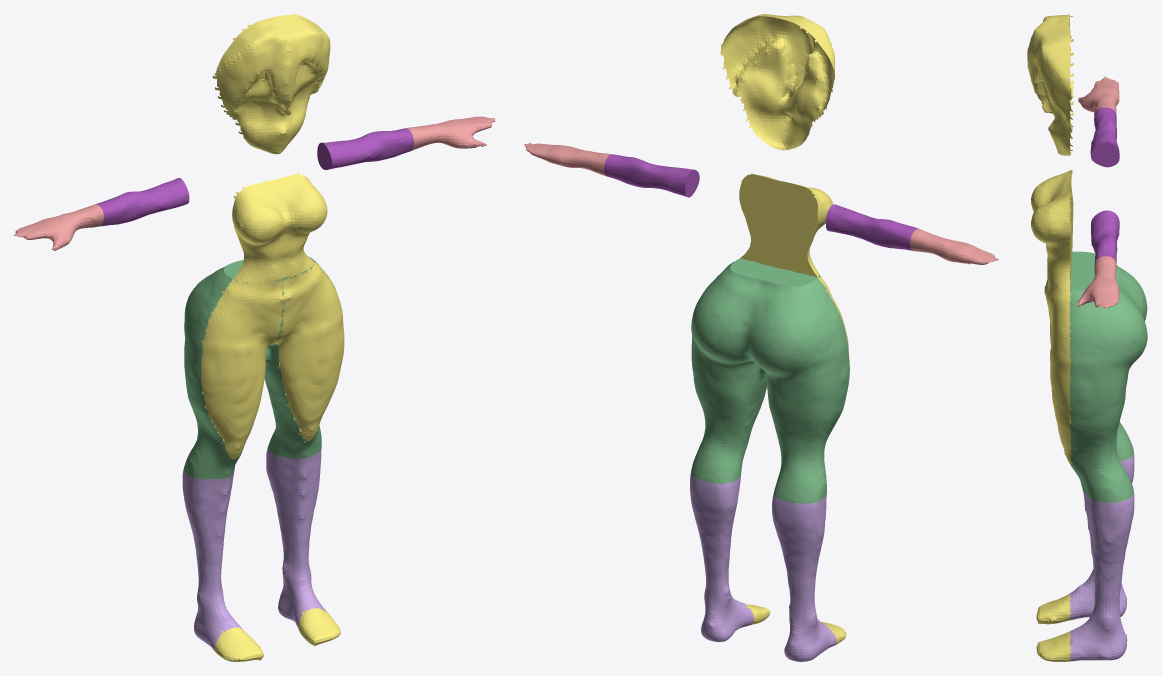
Rendered from tpose_perfect_godmode_solid.glb.
The picture shows the model from 3 angles, left to right: view 1: azimuth 30°, elevation 25°; view 2: azimuth 150°, elevation 25°; view 3: azimuth 270°, elevation 25°; orthographic projection.
Visible parts, largest first — view 1: Part_HEAD_HAIR, Part_LEG_LOWER_R, Part_LEG_UPPER_L, Part_LEG_LOWER_L, Part_LEG_UPPER_R, Part_ARM_UPPER_R, Part_ARM_UPPER_L, Part_ARM_LOWER_L, Part_ARM_LOWER_R; view 2: Part_HEAD_HAIR, Part_LEG_UPPER_L, Part_LEG_UPPER_R, Part_LEG_LOWER_L, Part_LEG_LOWER_R, Part_ARM_UPPER_R, Part_ARM_UPPER_L, Part_ARM_LOWER_L, Part_ARM_LOWER_R; view 3: Part_HEAD_HAIR, Part_LEG_UPPER_R, Part_LEG_LOWER_R, Part_LEG_UPPER_L, Part_ARM_UPPER_L, Part_ARM_LOWER_R, Part_LEG_LOWER_L, Part_ARM_UPPER_R, Part_ARM_LOWER_L.
Part boxes in pixels (x1,y1,x2,y2): Part_HEAD_HAIR: (201,14,344,661); Part_LEG_LOWER_R: (266,447,326,627); Part_LEG_UPPER_L: (183,260,283,479); Part_LEG_LOWER_L: (182,469,241,650); Part_LEG_UPPER_R: (264,256,335,459); Part_ARM_UPPER_R: (317,128,413,169); Part_ARM_UPPER_L: (96,178,189,226); Part_ARM_LOWER_L: (14,204,103,250); Part_ARM_LOWER_R: (406,116,495,150); Part_HEAD_HAIR: (720,14,849,644); Part_LEG_UPPER_L: (746,268,849,503); Part_LEG_UPPER_R: (691,258,779,483); Part_LEG_LOWER_L: (772,494,836,661); Part_LEG_LOWER_R: (690,473,753,642); Part_ARM_UPPER_R: (604,154,699,197); Part_ARM_UPPER_L: (826,204,917,250); Part_ARM_LOWER_L: (910,228,998,264); Part_ARM_LOWER_R: (524,142,610,175); Part_HEAD_HAIR: (1027,14,1073,661); Part_LEG_UPPER_R: (1044,270,1147,502); Part_LEG_LOWER_R: (1069,491,1134,661); Part_LEG_UPPER_L: (1046,251,1147,461); Part_ARM_UPPER_L: (1090,107,1119,167); Part_ARM_LOWER_R: (1076,256,1119,308); Part_LEG_LOWER_L: (1069,452,1134,619); Part_ARM_UPPER_R: (1090,210,1119,263); Part_ARM_LOWER_L: (1078,76,1119,113).
Bounding box in the file's own units: 1.46 × 1.81 × 0.321.
